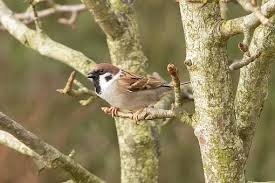home_sparrow: (79, 57, 193, 119)
